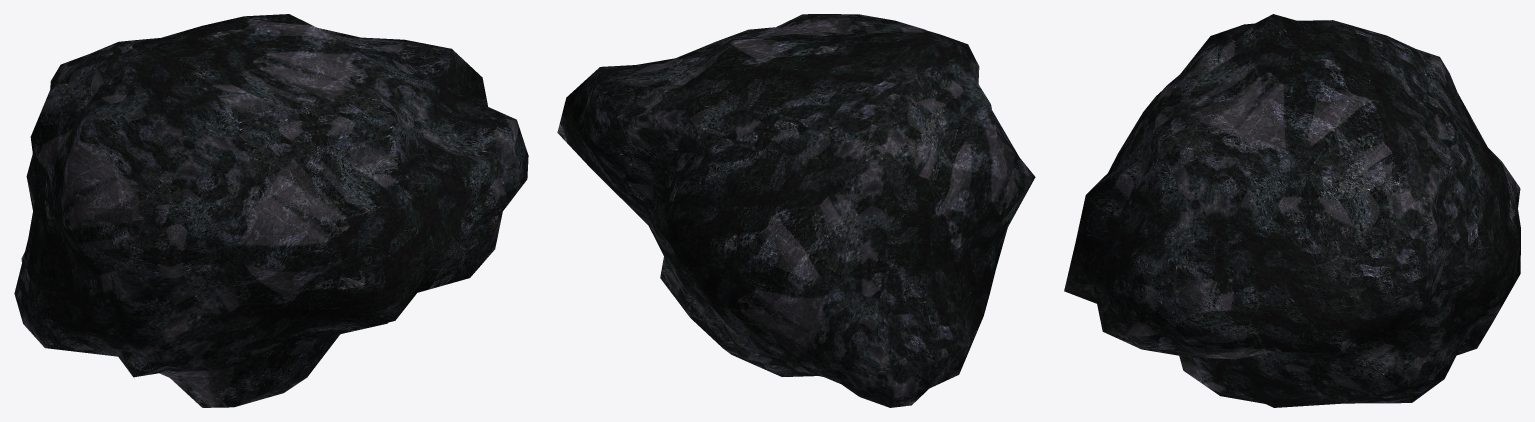
File: asteroid_obsidian_medium_s01_l0.fbx
The picture shows the model from 3 angles, left to right: view 1: azimuth 30°, elevation 25°; view 2: azimuth 150°, elevation 25°; view 3: azimuth 270°, elevation 25°; orthographic projection. The views are drawn at different scales.
Visible parts, largest first — view 1: mesh_node; view 2: mesh_node; view 3: mesh_node.
Boxes of the visible parts, left/top/right/bottom form: mesh_node: left=14, top=14, right=528, bottom=407; mesh_node: left=557, top=14, right=1035, bottom=407; mesh_node: left=1064, top=14, right=1520, bottom=407.
Size of the model in its own units: 86.86 by 66.86 by 75.95.
